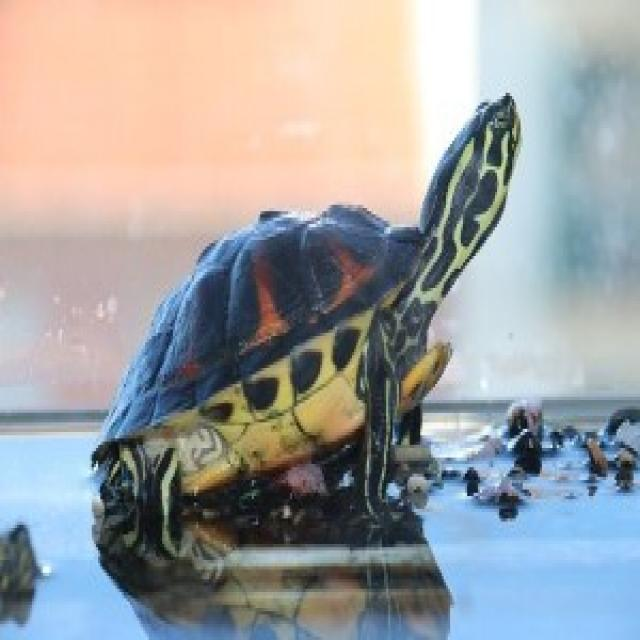Sea turtle: (91, 66, 546, 640)
